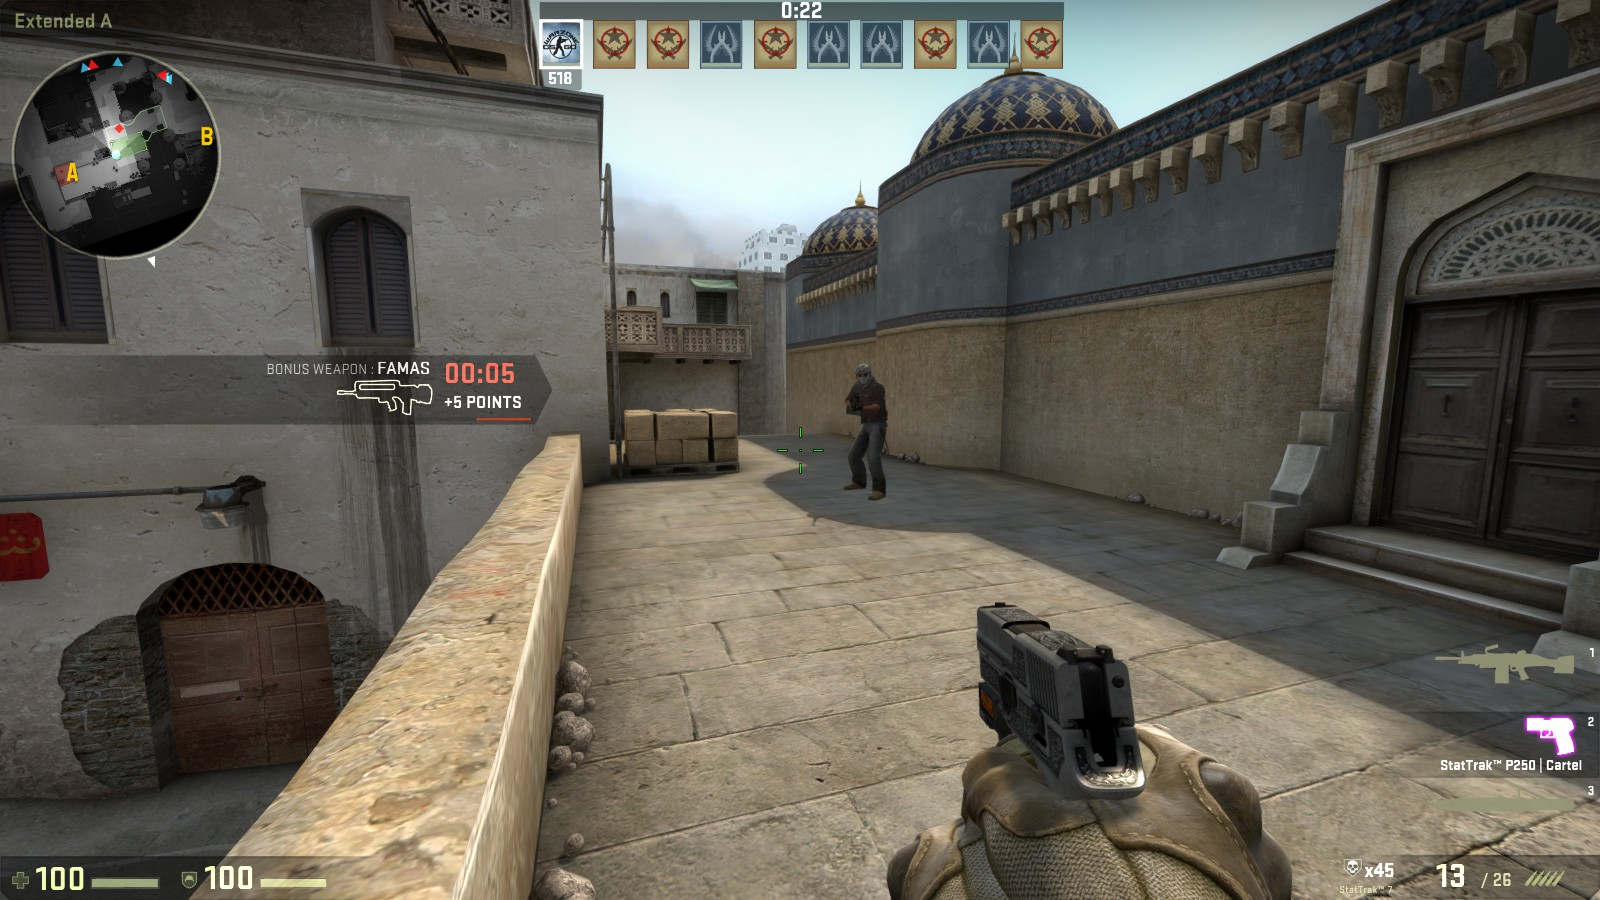t: (845, 362, 888, 500)
th: (853, 362, 873, 388)
